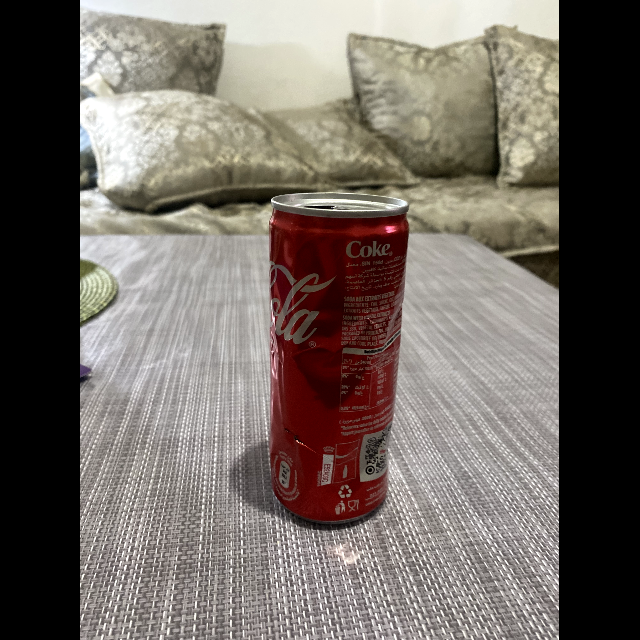coca-cola CAN: (267, 194, 411, 525)
